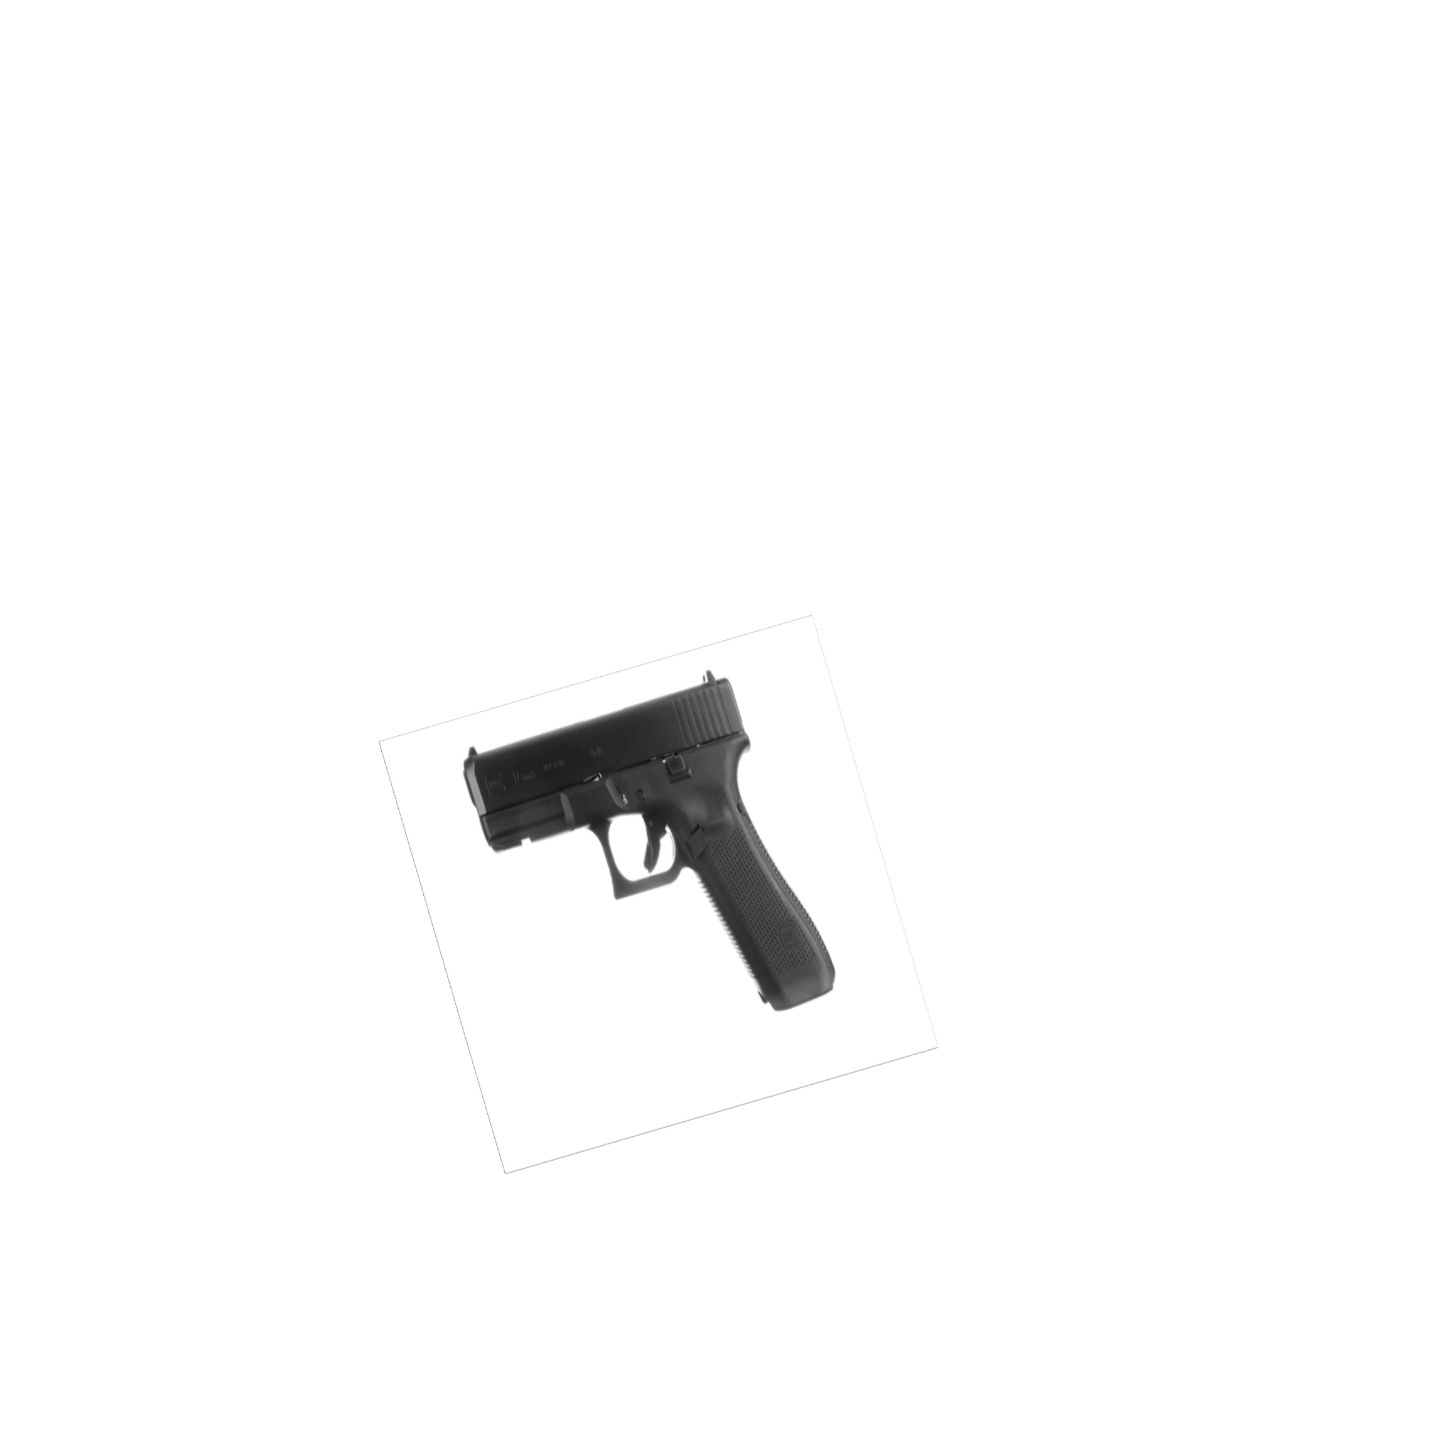gun: (454, 653, 855, 1027)
